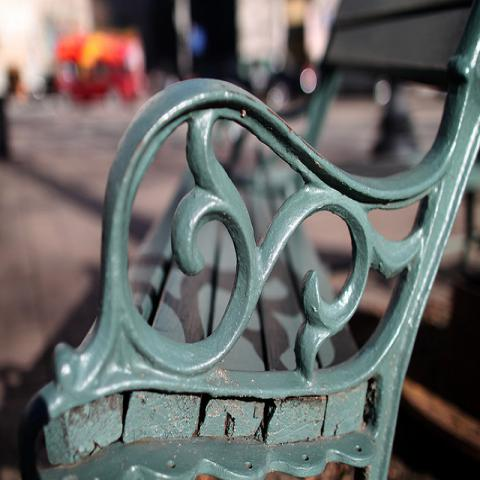bus: (54, 31, 142, 107)
